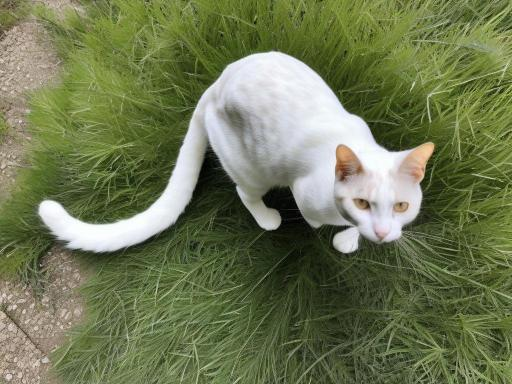cat_standing: (38, 52, 434, 253)
